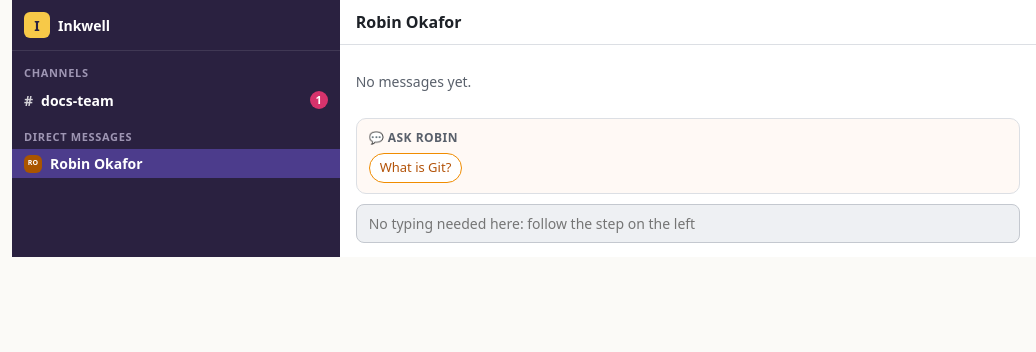
Ask Robin › offers this chapter’s questions in the DM, and answers when asked
The image size is (1036, 352).
Click the button "What is Git?": (416, 168) [369,153,462,182]
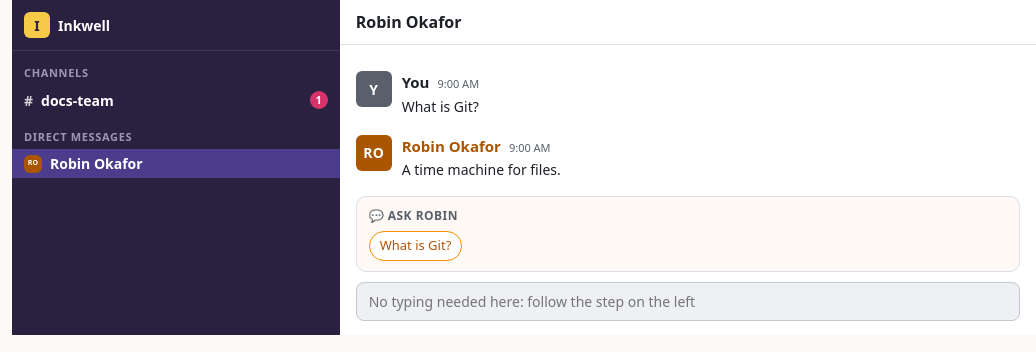
expect the element that starts with "You" shows "What is Git?": met, box [402,96,479,116]
expect the element that starts with "You" shows "A time machine for files.": met, box [402,160,561,179]
